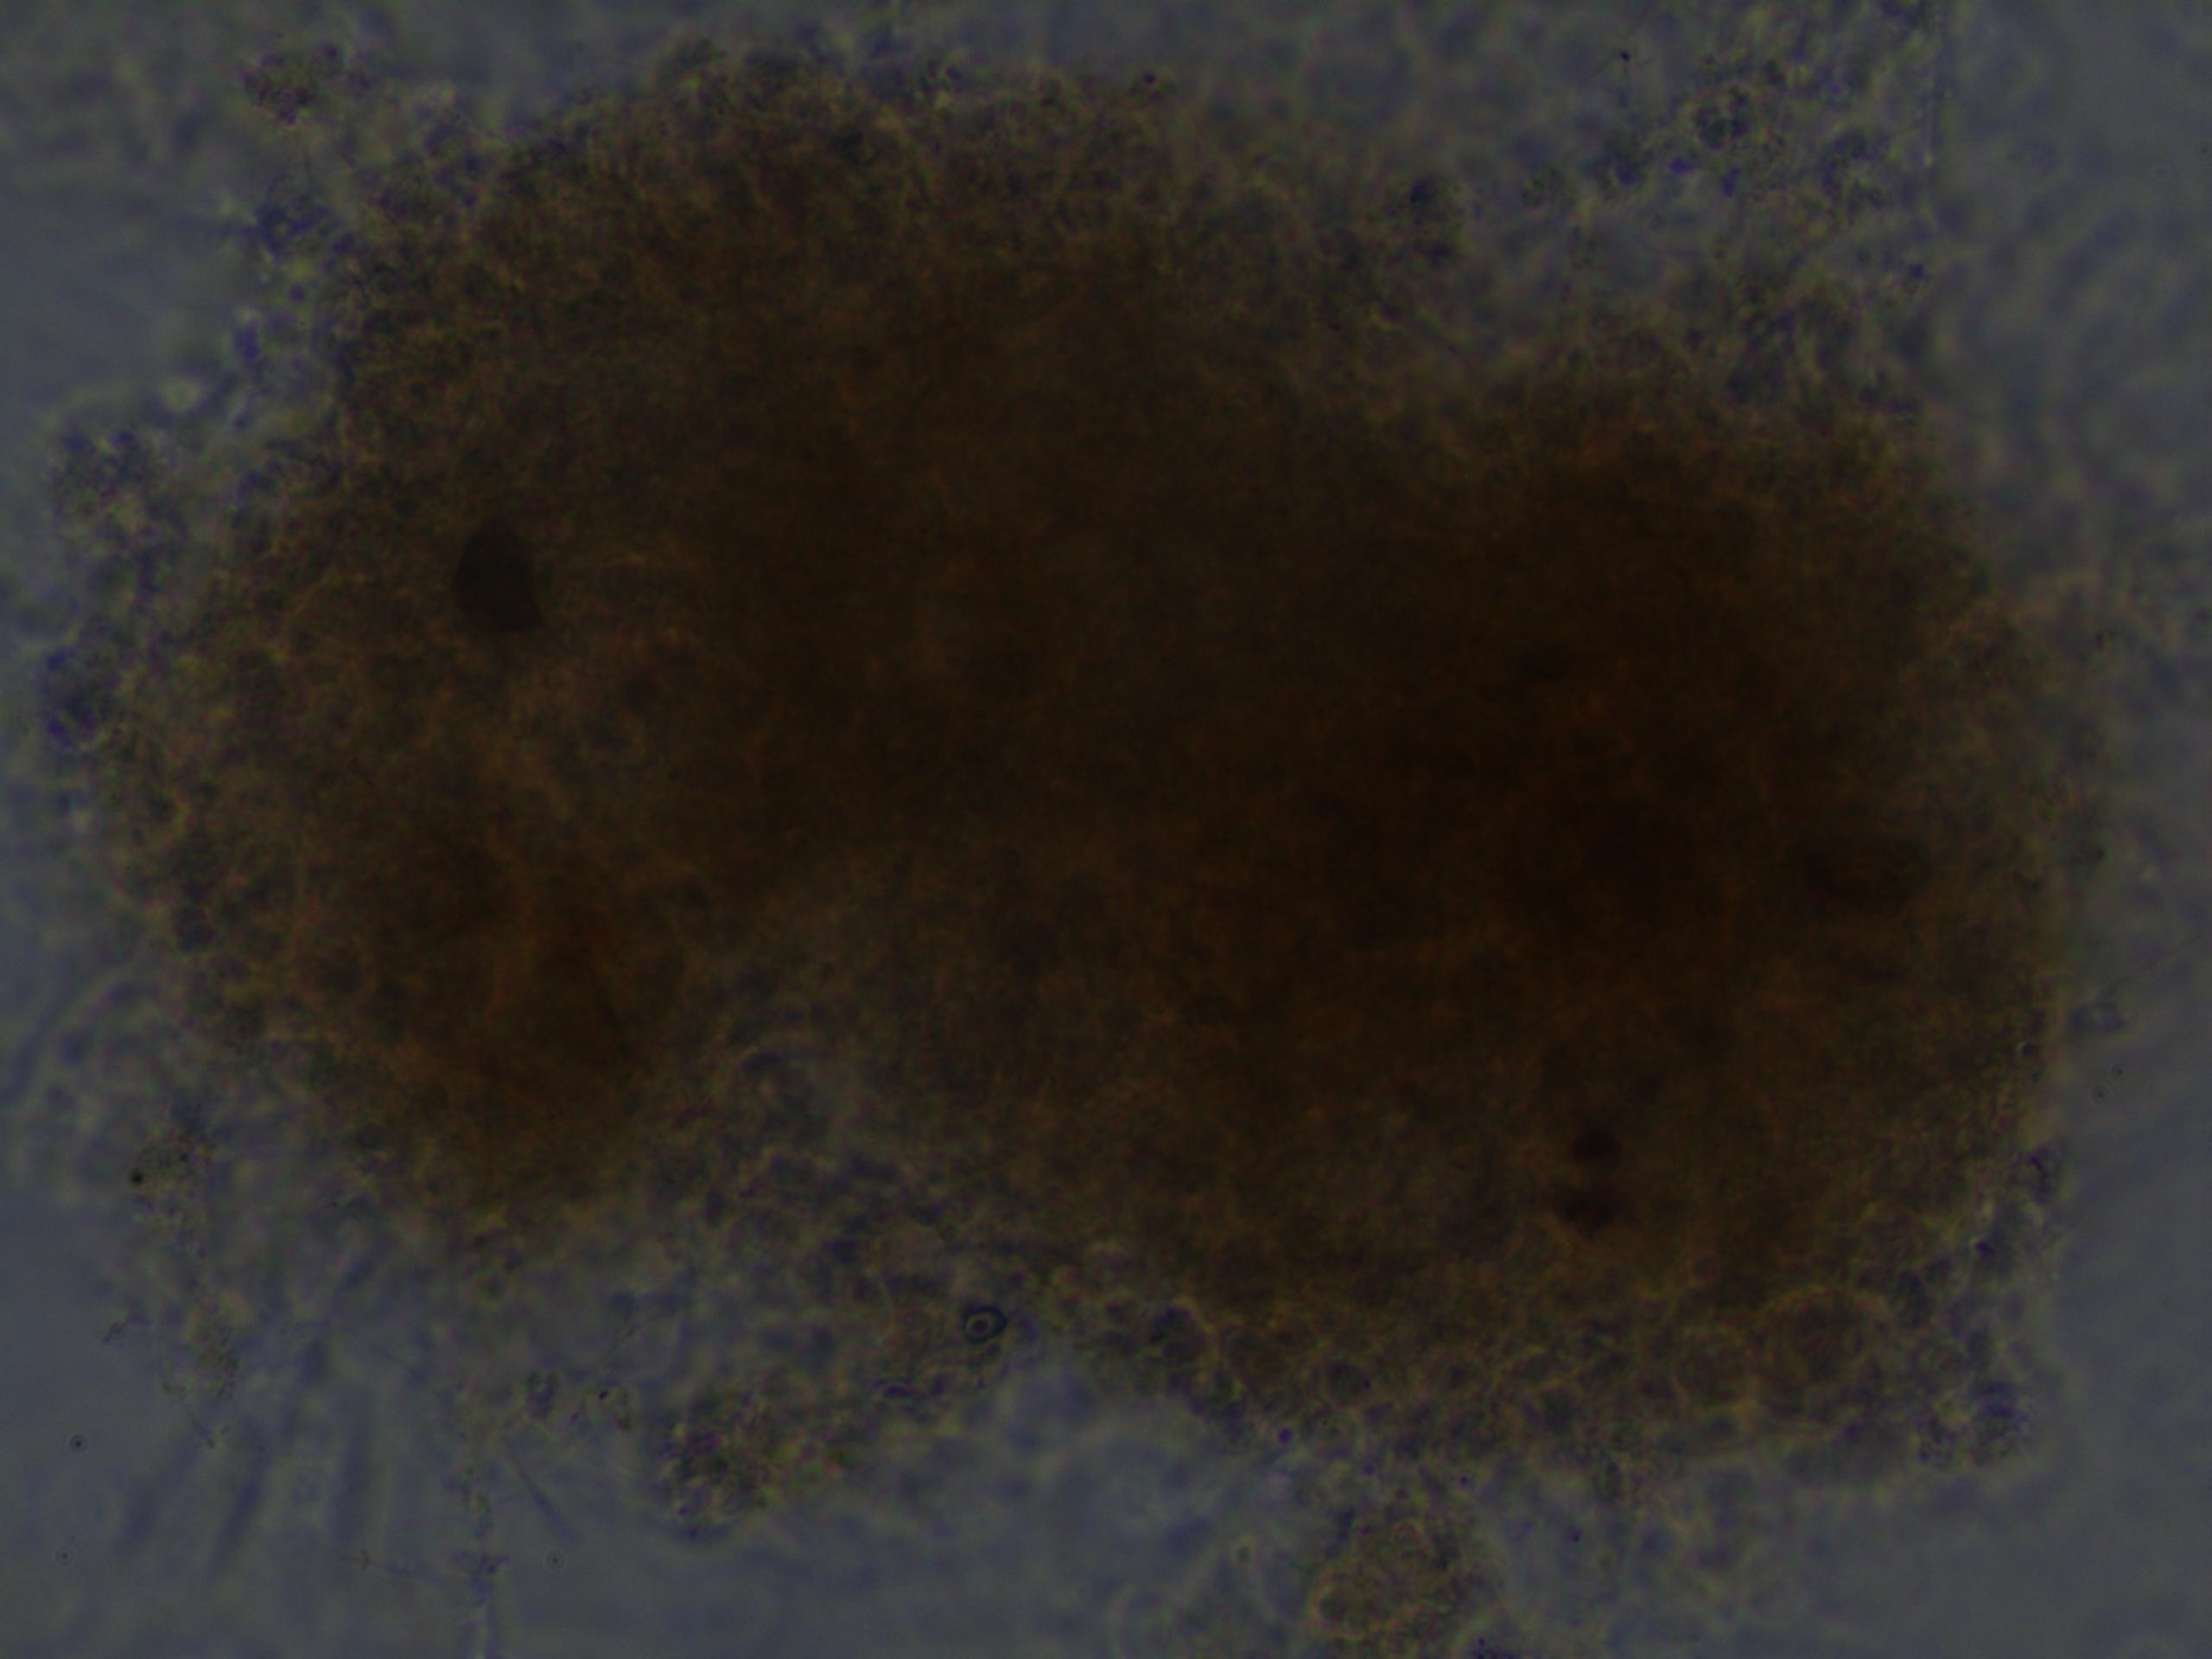spherical_floc: (56, 24, 2142, 1509)
